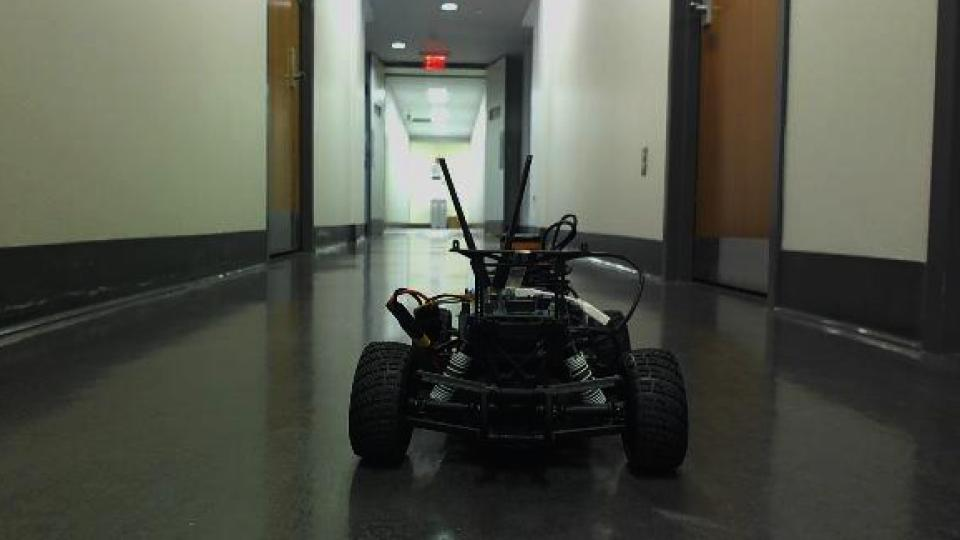car: (344, 152, 692, 478)
